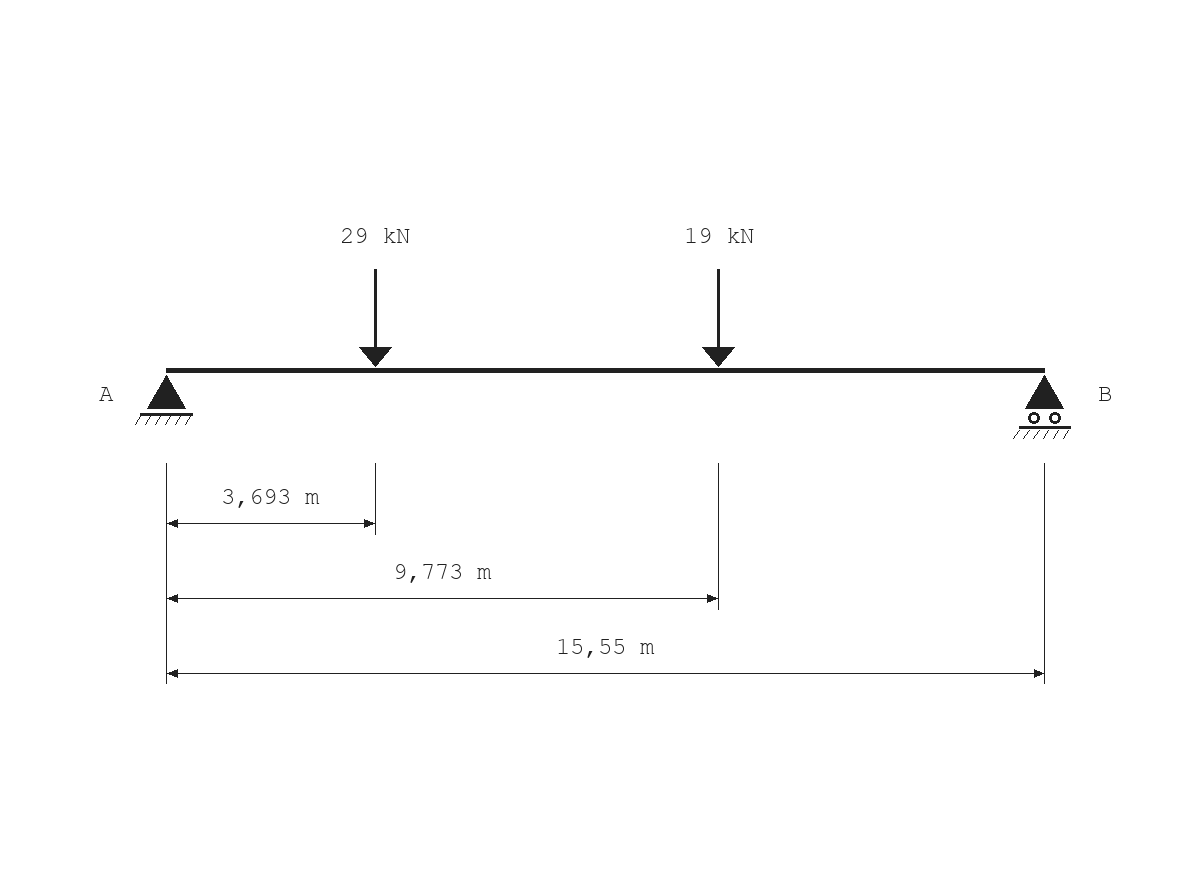pin_support: (135, 375, 193, 425)
point_load: (359, 269, 392, 367), (702, 269, 735, 367)
roller_support: (1013, 375, 1071, 439)
